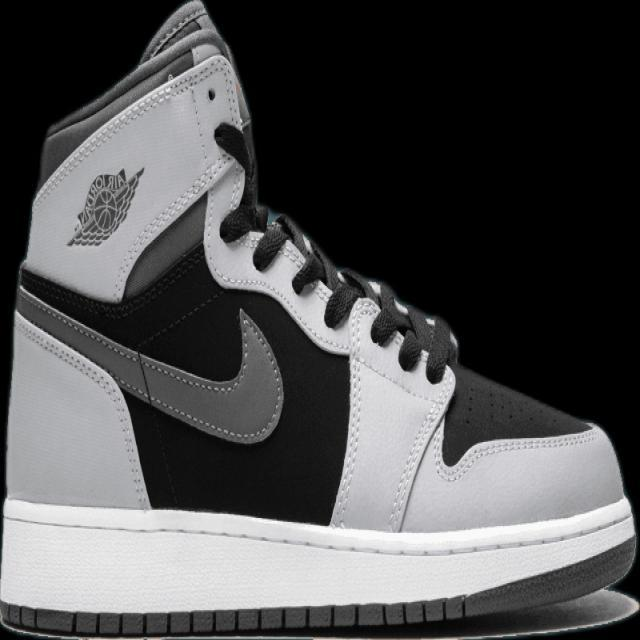J1_InsoleChar: (0, 0, 638, 639)
J1_ShoeLogo: (65, 165, 145, 248)
J1_StitchPattern: (1, 494, 636, 632), (14, 285, 286, 446), (2, 496, 636, 561), (247, 208, 459, 384), (326, 269, 459, 531), (13, 310, 153, 508), (1, 594, 469, 636), (323, 267, 459, 383), (250, 212, 362, 328), (433, 422, 600, 483), (385, 384, 450, 533), (328, 297, 369, 529), (250, 213, 326, 294), (139, 0, 217, 62), (250, 217, 290, 270)
